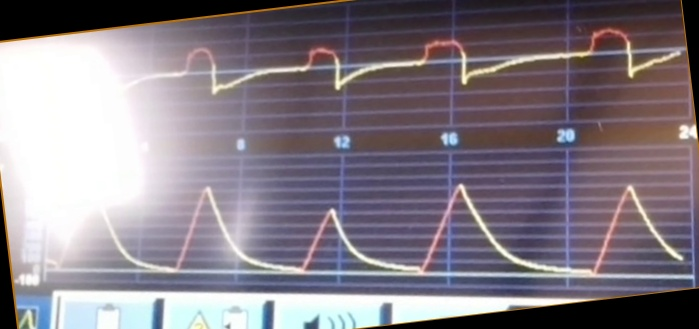Normal Flow: (137, 26, 682, 121)
Normal Volume: (47, 178, 683, 283)
